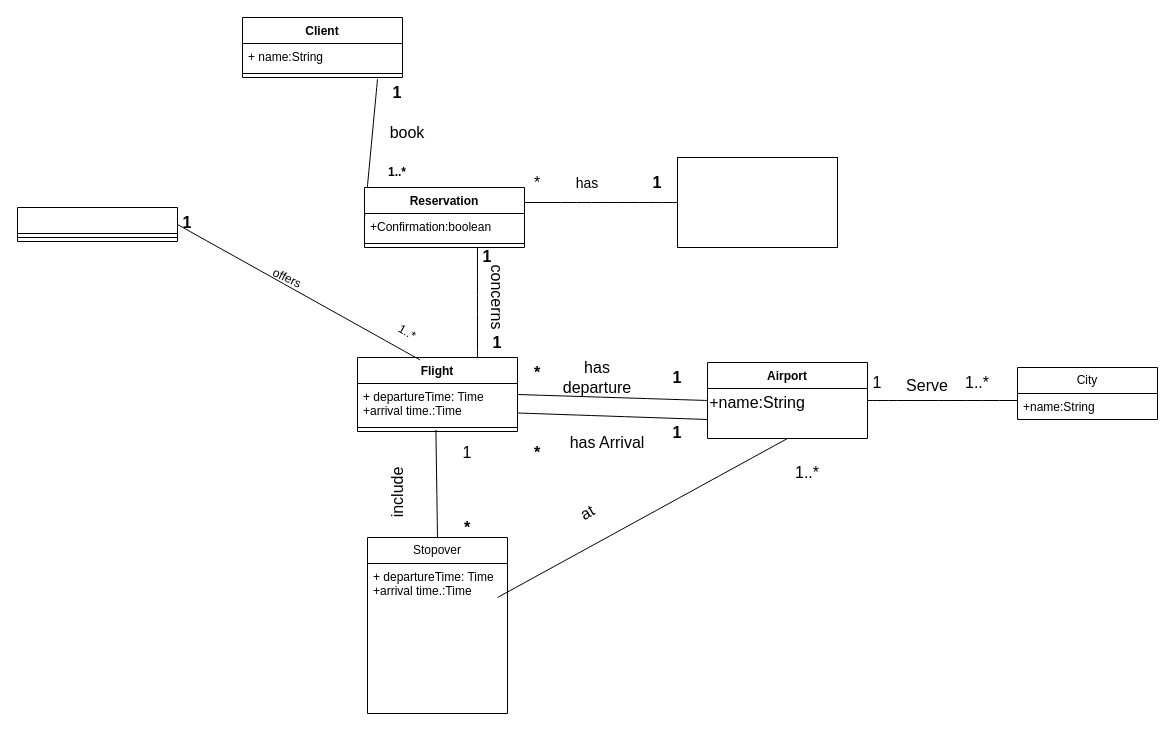
This 1175x734 diagram has some shape labels left out. The centre of each missing label's shape, as x and y in pixels:
"Airline" goes at (x=97, y=224).
"Passenger + name:String" goes at (x=757, y=202).
